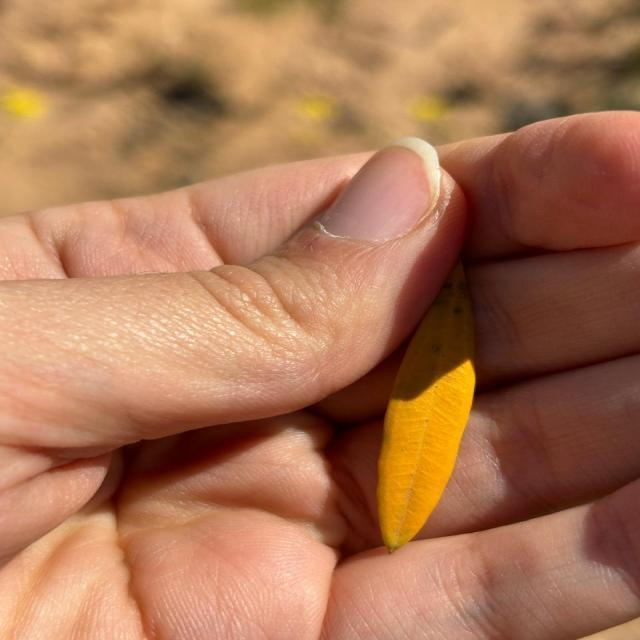OlivePeacockSpot: (377, 264, 476, 552)
